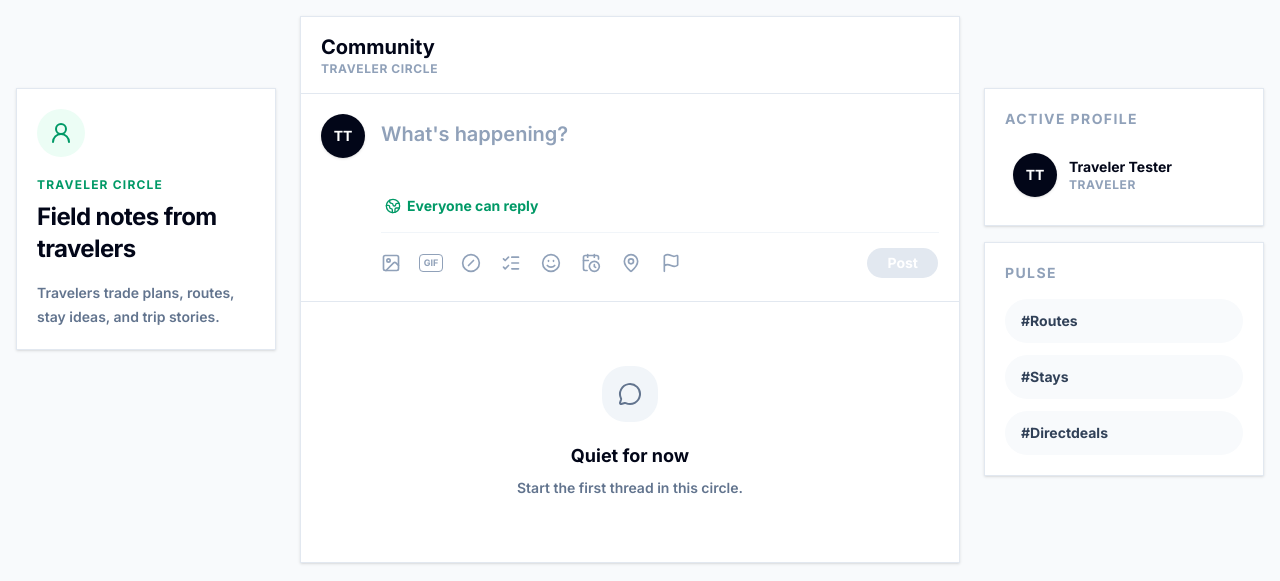
Scenario: Community composer › renders a Twitter-style composer with audience and attachment controls
This screenshot has width=1280, height=581.
Expected: the button named "Add image" is shown, top-left (373, 245), bottom-right (409, 281)
Expected: the button named "Add GIF" is shown, top-left (413, 245), bottom-right (449, 281)
In the text box with placeholder "What's happening?": point(660, 152) top-left (381, 114), bottom-right (939, 190), type "Testing the community feed"
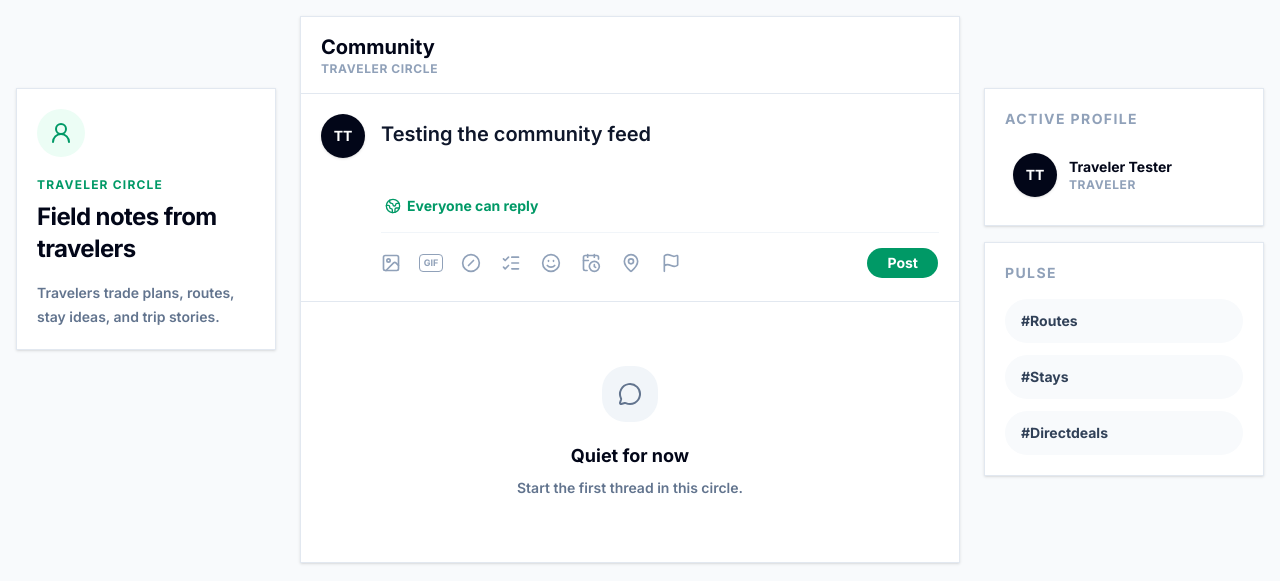
Expected: the button "Post" is enabled, top-left (866, 247), bottom-right (939, 279)
